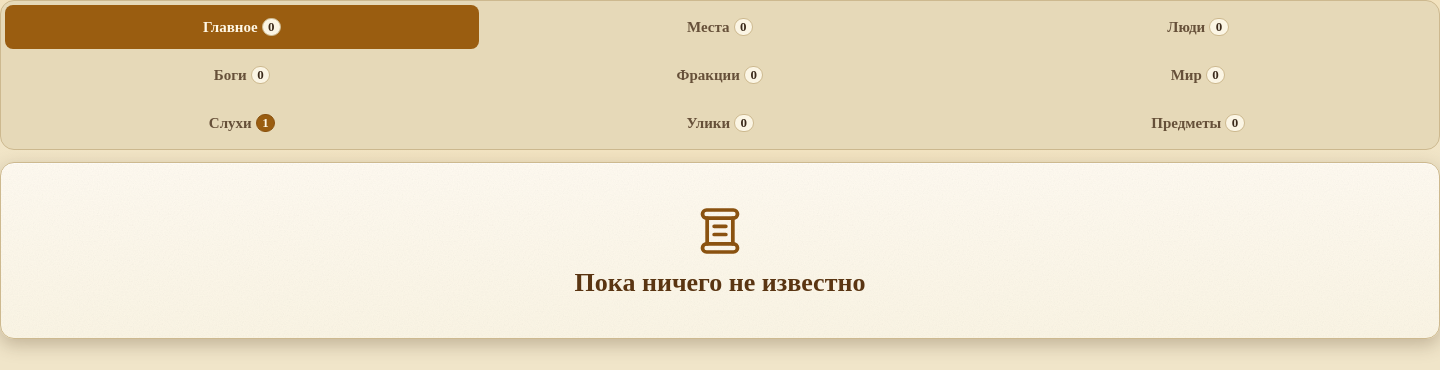
карточка записи › длинная запись с началом-названием («…») показывает текст целиком
Click the tab "Слухи 1" at coordinates (242, 123), box [5,101,479,145]
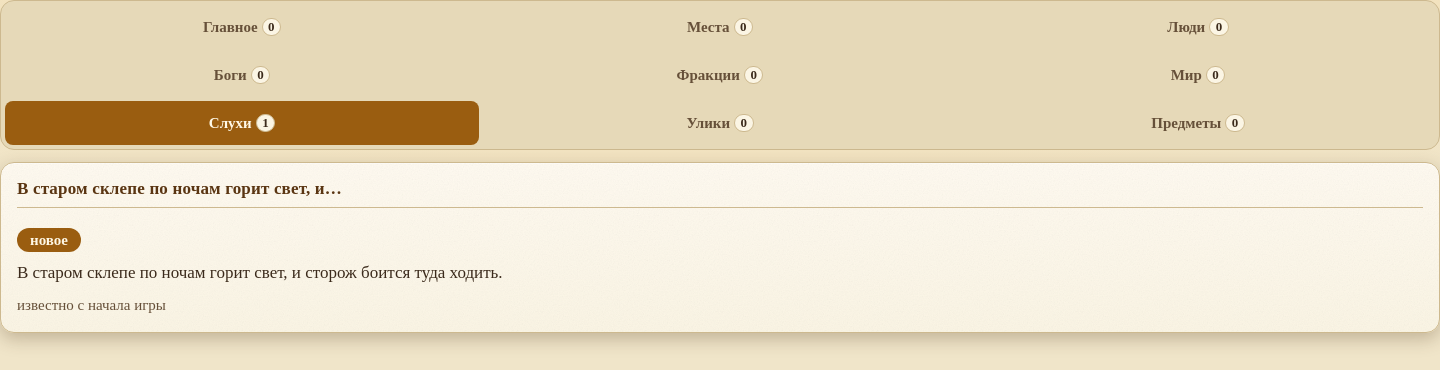
Expected: the text "В старом склепе по ночам горит свет, и сторож боится туда ходить." is shown, [17,263,503,282]
